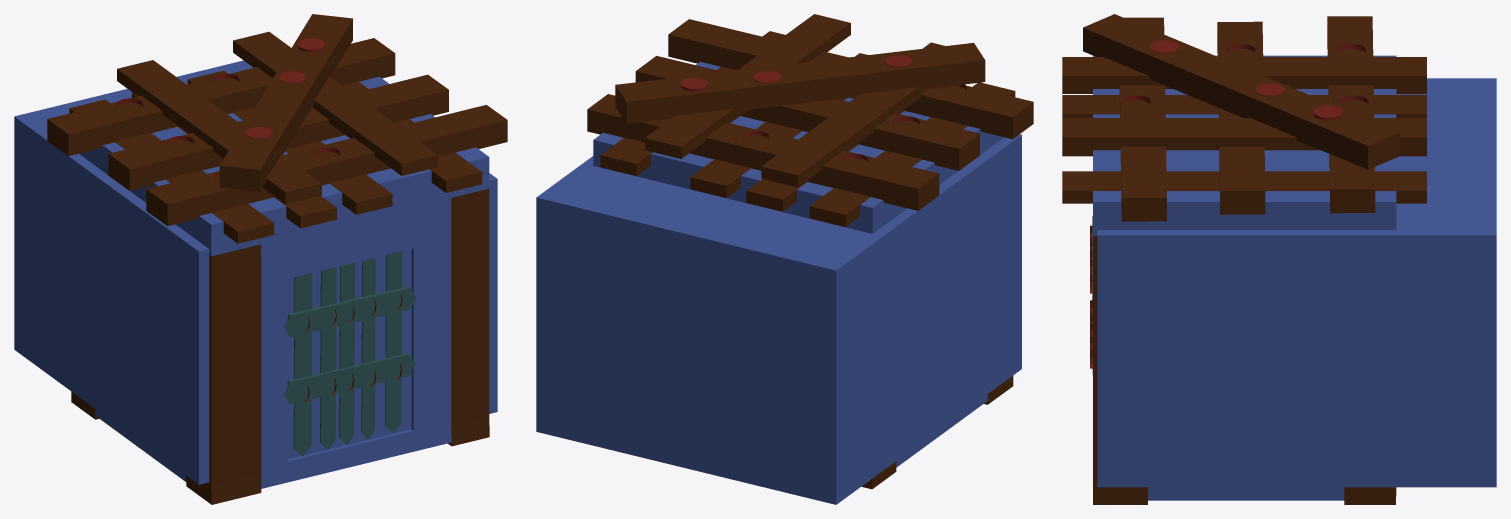
File: dsert grave.fbx
The picture shows the model from 3 angles, left to right: view 1: azimuth 30°, elevation 25°; view 2: azimuth 150°, elevation 25°; view 3: azimuth 270°, elevation 25°; orthographic projection. The views are drawn at different scales.
Visible parts, largest first — view 1: Cube.001, Cube; view 2: Cube, Cube.001; view 3: Cube, Cube.001.
Part boxes in pixels (x1=…): Cube.001: x1=47, y1=14, x2=507, y2=504; Cube: x1=14, y1=60, x2=497, y2=484; Cube: x1=536, y1=134, x2=1021, y2=504; Cube.001: x1=587, y1=14, x2=1033, y2=489; Cube: x1=1097, y1=78, x2=1496, y2=487; Cube.001: x1=1062, y1=14, x2=1426, y2=504.
Size of the model in its own units: 309 by 283 by 312.
